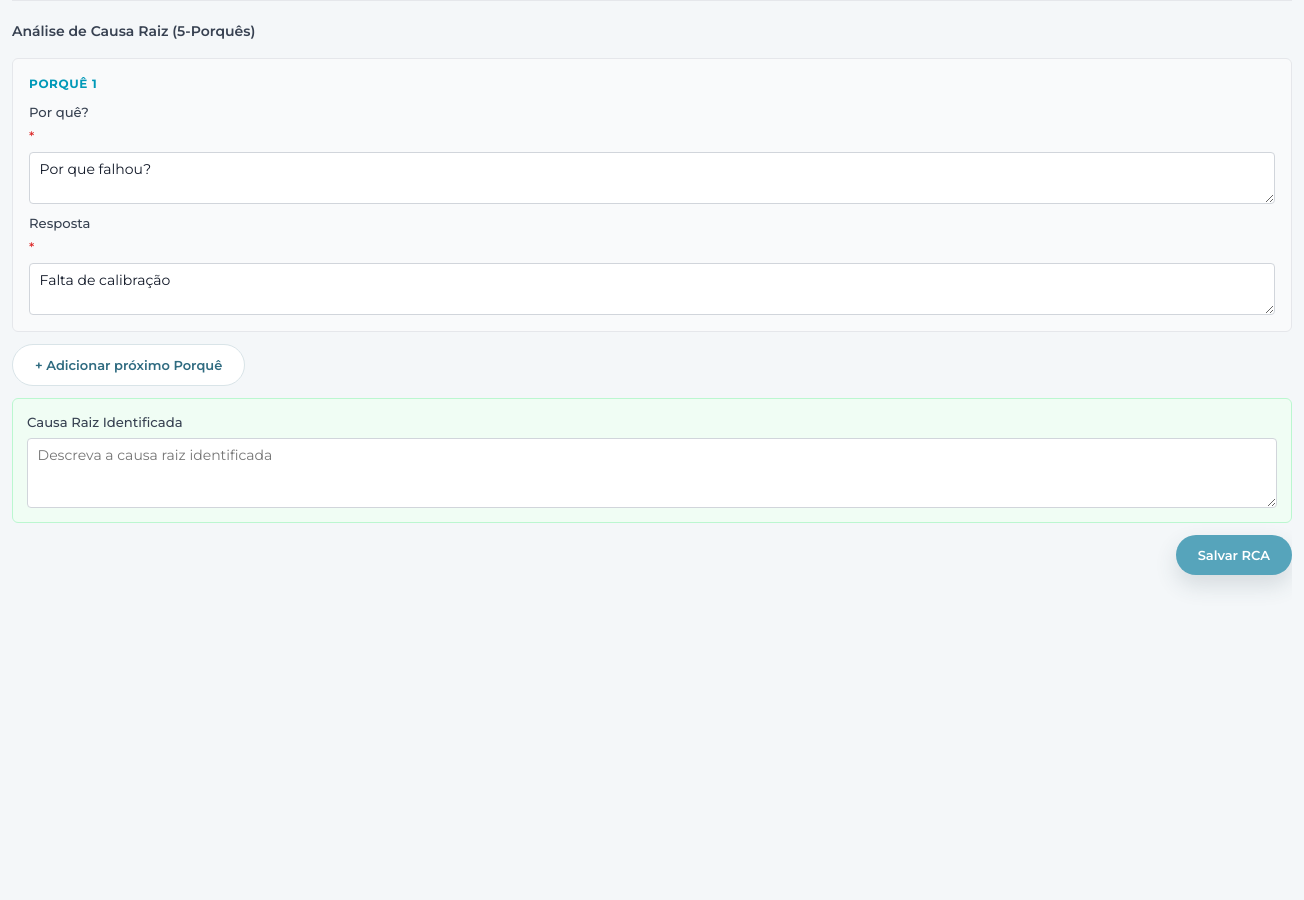
Test: NcRcaComponent › AC-3 — wizard inicia com 1 par e botão adicionar próximo › adds a new pair when add button clicked
Click the button with test id "btn-add-pair": (129, 365) [12,344,245,386]
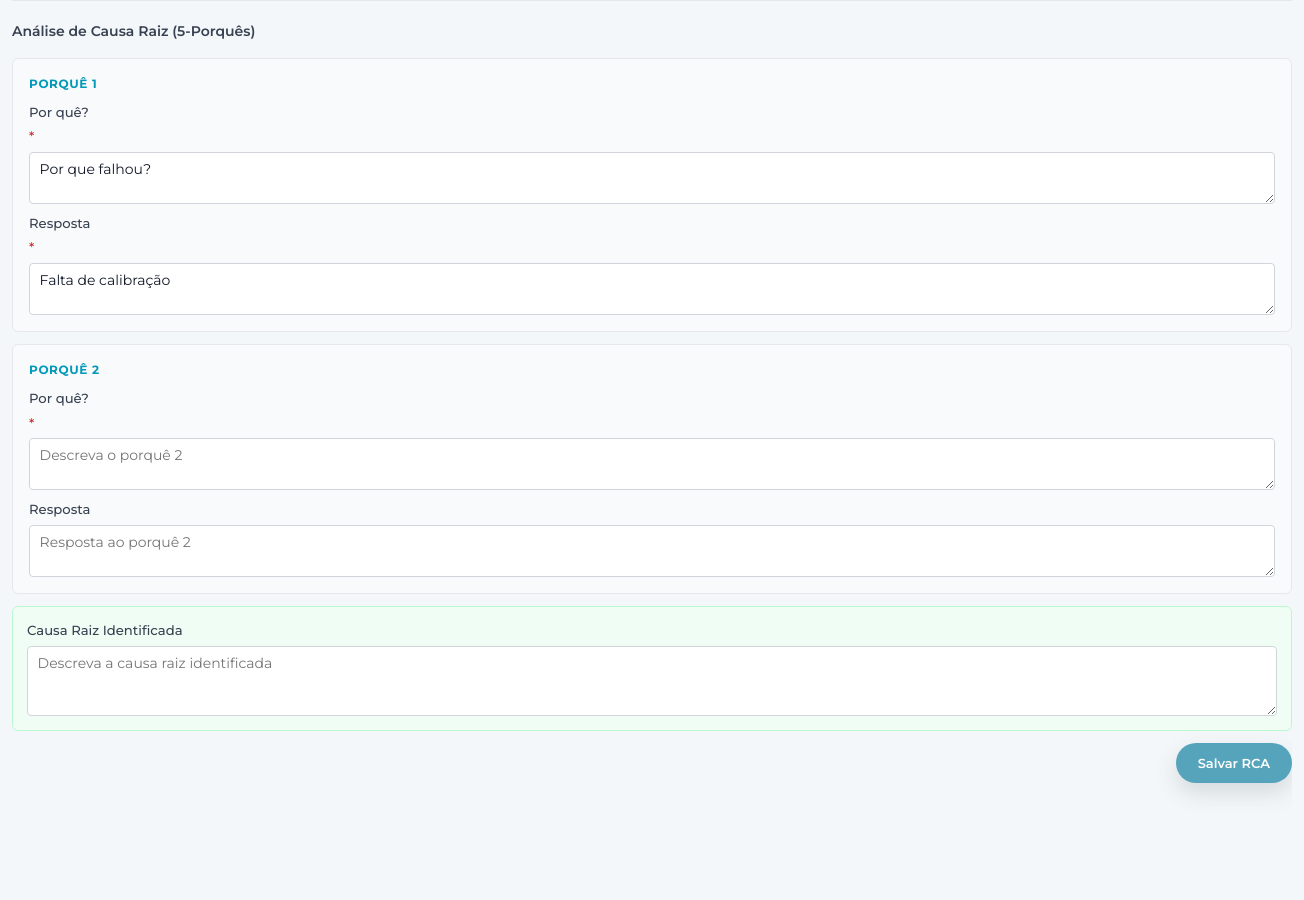
Expected: the element with test id "rca-pair-2" is shown, [12,344,1292,594]
